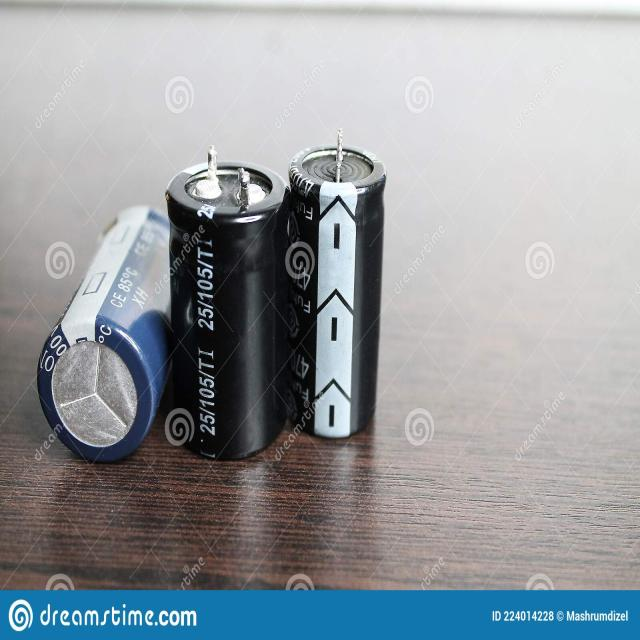Capacitor: (165, 147, 289, 460), (38, 206, 170, 462), (286, 133, 386, 438)
